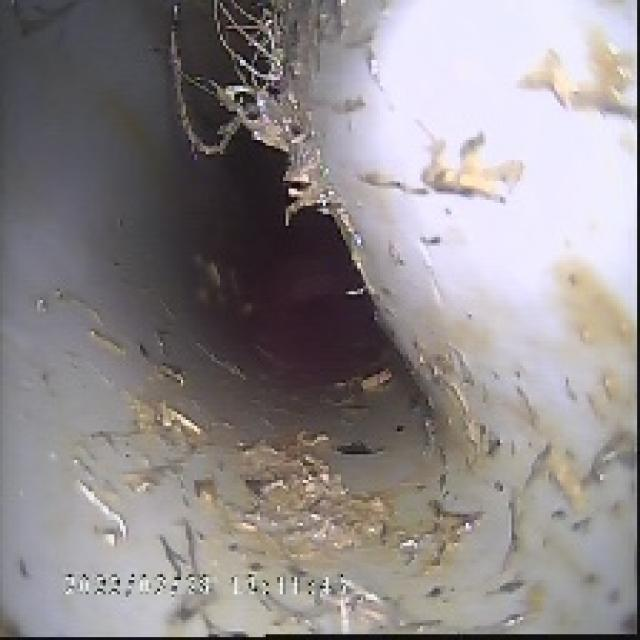shape_deformation: (163, 46, 586, 560)
